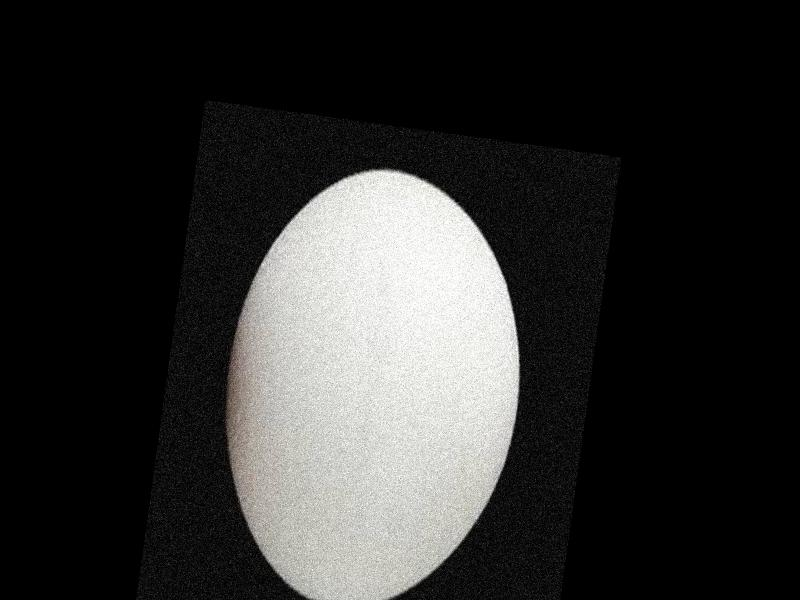Eggs: (197, 150, 545, 600)
